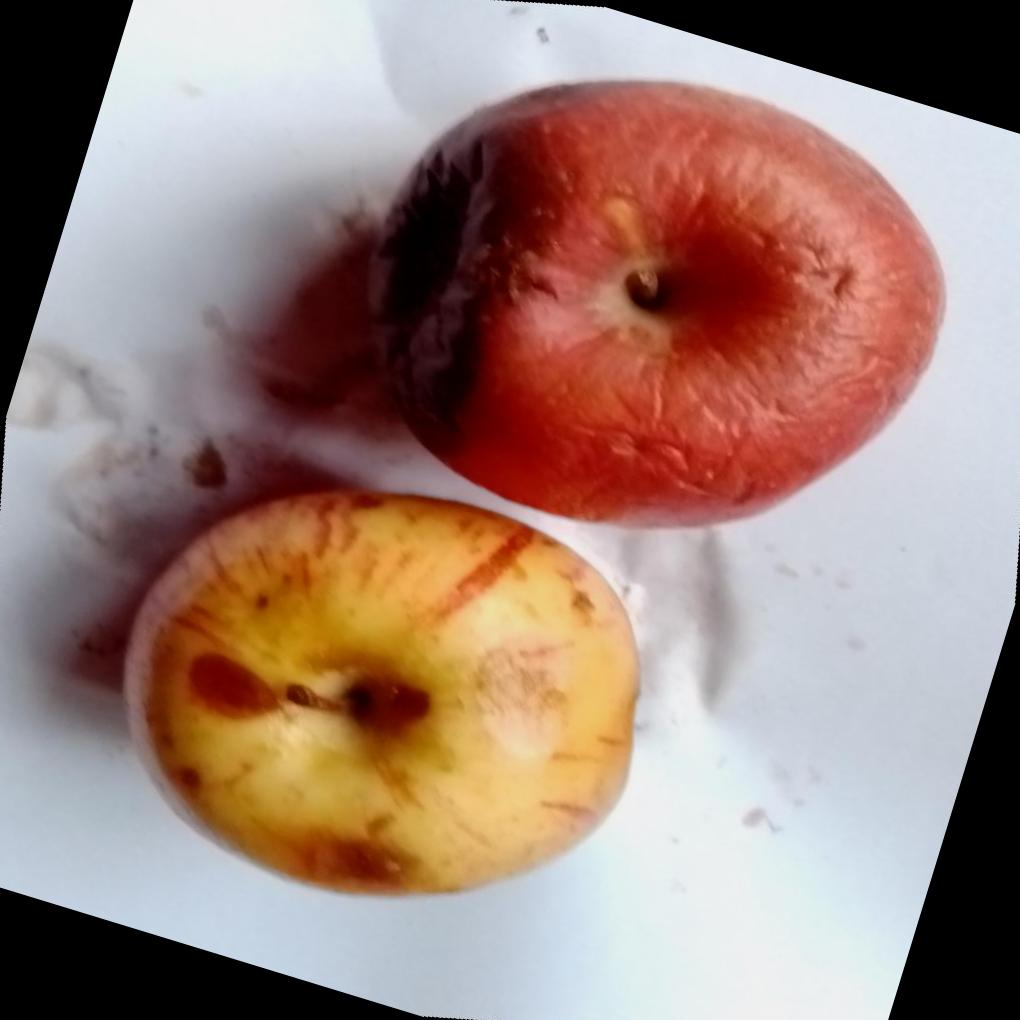FreshOrange: (361, 78, 950, 531), (121, 483, 647, 903)
